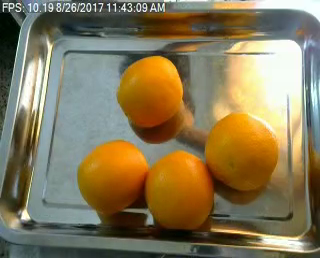Orange: (206, 109, 280, 191), (143, 148, 215, 229), (77, 139, 149, 214), (118, 55, 182, 126)
